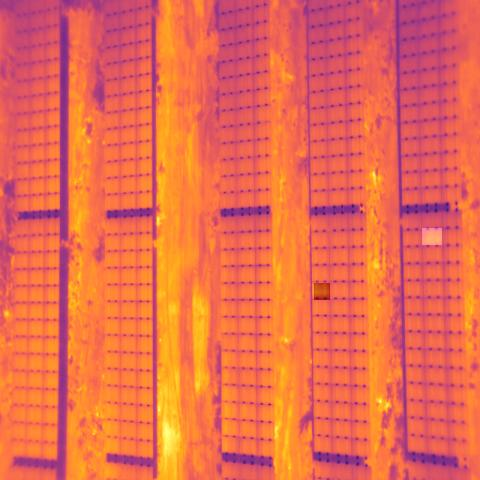fault: (422, 228, 442, 245), (314, 283, 330, 300)
